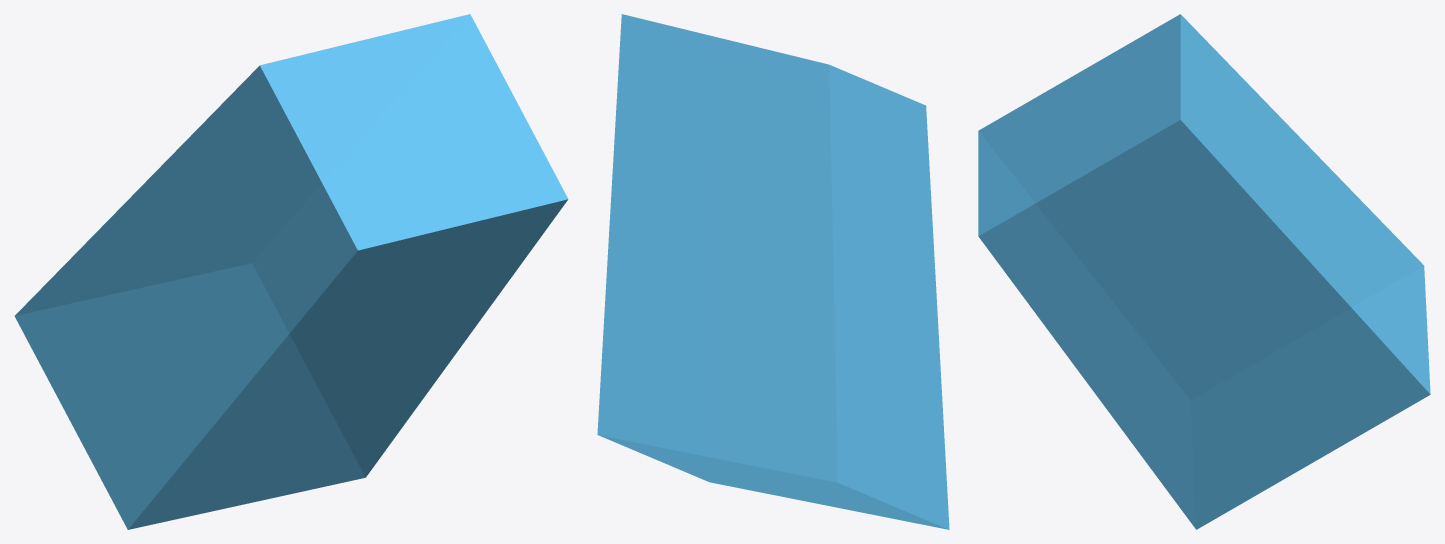
Rendered from Event_420094457_HBrechit_6.fbx.
3 views of the same model, side by side, from view 1: azimuth 30°, elevation 25°; view 2: azimuth 150°, elevation 25°; view 3: azimuth 270°, elevation 25° (orthographic). The views are drawn at different scales.
Parts seen in each view (by area): view 1: Model; view 2: Model; view 3: Model.
Part boxes in pixels (box(x1,y1,x2,y2)): Model: box(14, 14, 568, 529); Model: box(597, 14, 949, 529); Model: box(978, 14, 1430, 529).
Size of the model in its own units: 0.6722 by 0.8485 by 0.7578.
